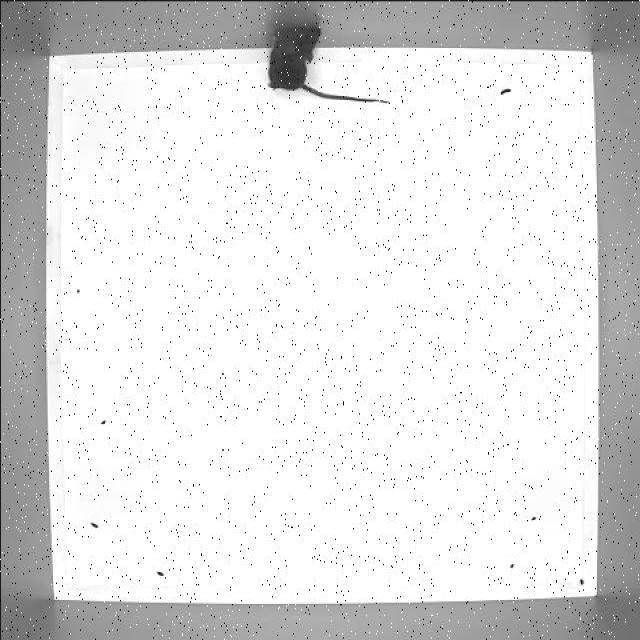rat: (266, 21, 396, 109)
